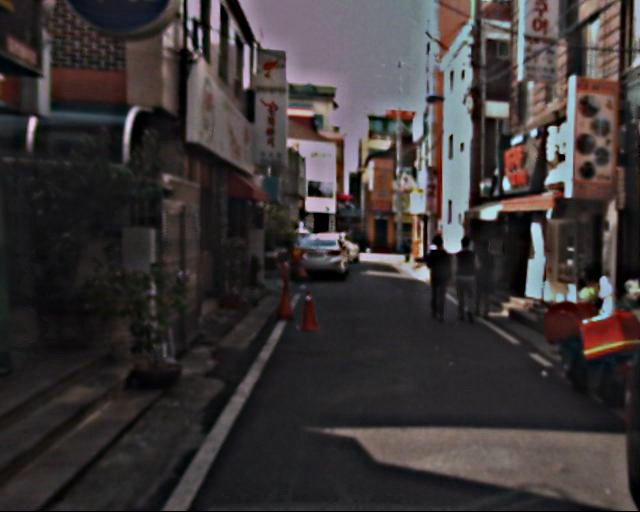person: (424, 237, 461, 327), (468, 236, 504, 325), (452, 237, 488, 325)
